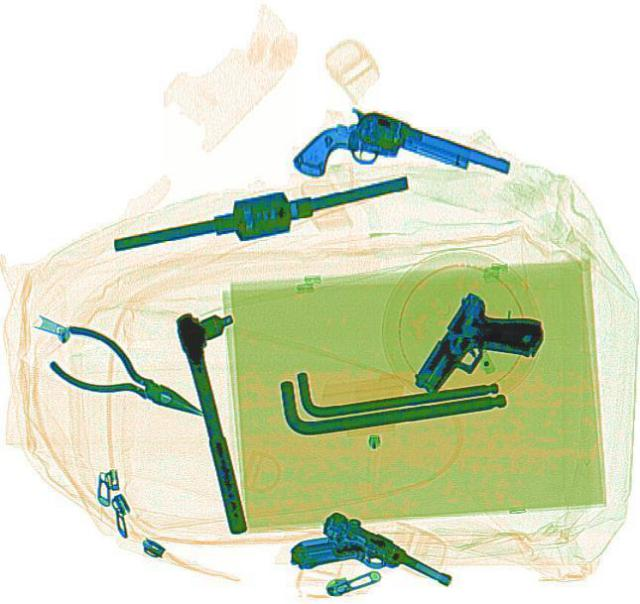Gun: (286, 91, 512, 234), (409, 288, 551, 418), (286, 500, 424, 600)
Pliers: (41, 318, 217, 438)
